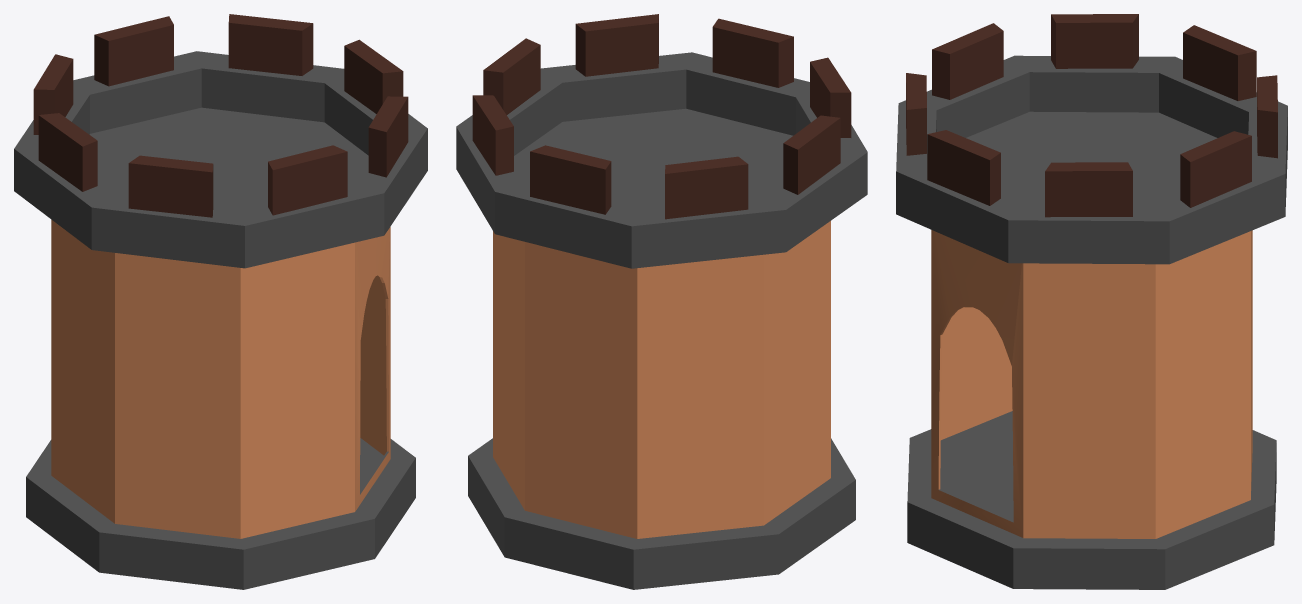
Rendered from SmallTower.fbx.
The picture shows the model from 3 angles, left to right: view 1: azimuth 30°, elevation 25°; view 2: azimuth 150°, elevation 25°; view 3: azimuth 270°, elevation 25°; orthographic projection.
Parts seen in each view (by area): view 1: Circle.010; view 2: Circle.010; view 3: Circle.010.
Boxes of the visible parts, x1,y1,x2,y2 form: Circle.010: [14, 14, 427, 589]; Circle.010: [456, 14, 867, 589]; Circle.010: [896, 14, 1287, 589].
Size of the model in its own units: 571 by 675 by 571.
